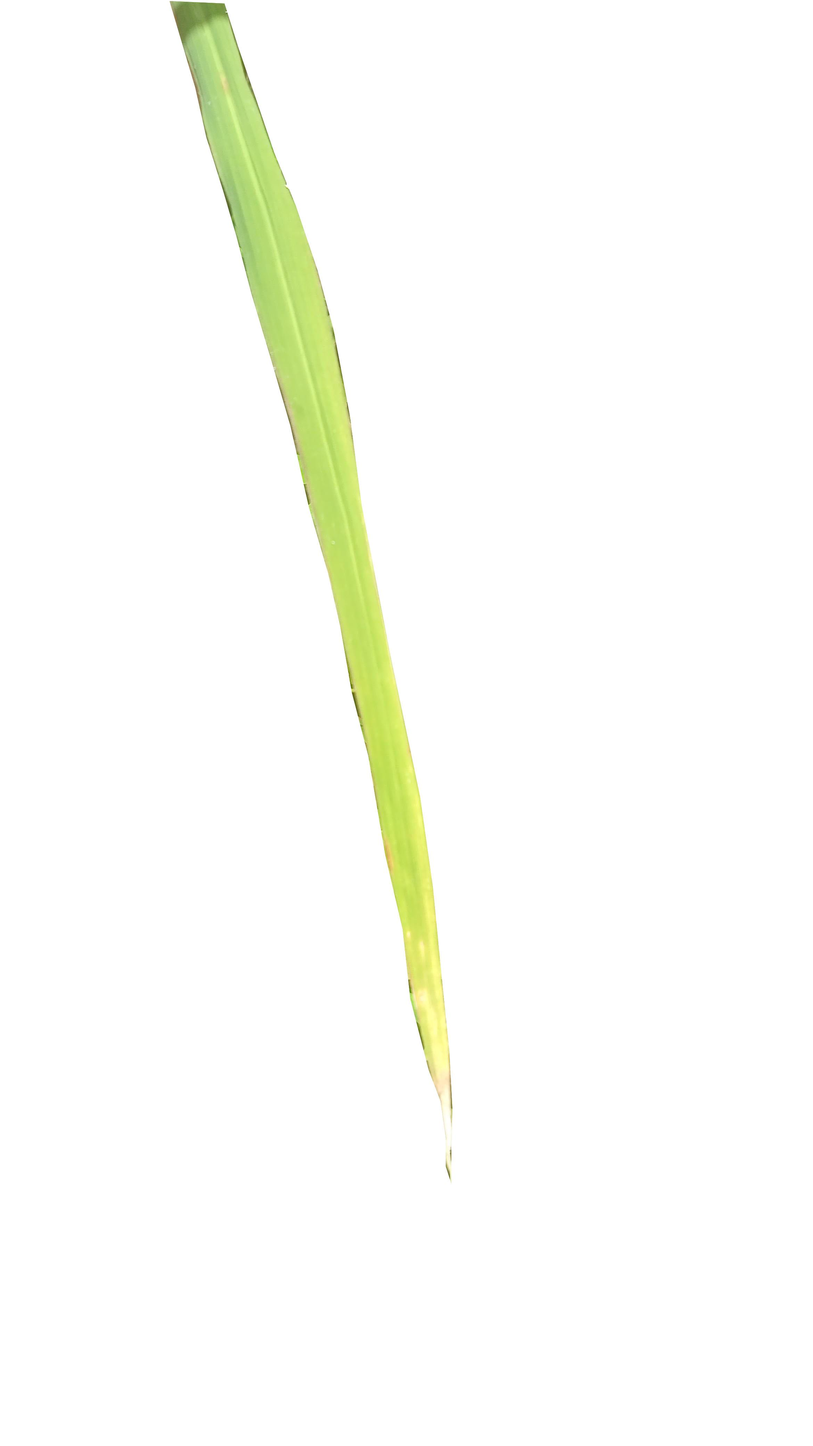Tungro: (199, 73, 456, 1139)
